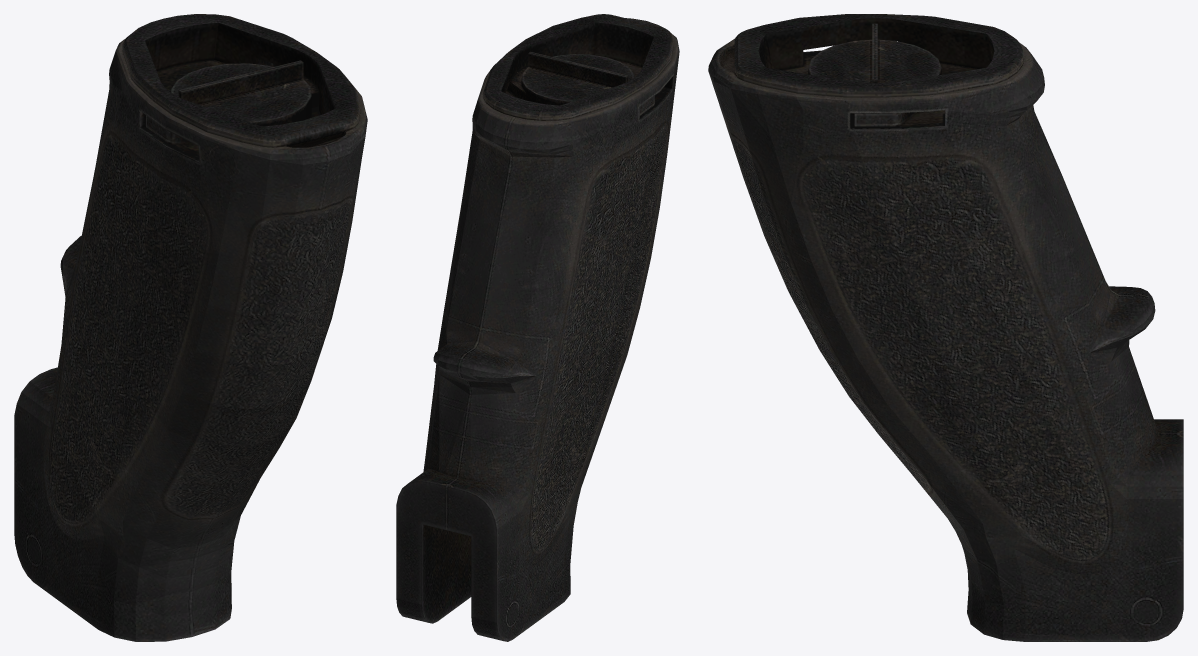
The picture shows the model from 3 angles, left to right: view 1: azimuth 30°, elevation 25°; view 2: azimuth 150°, elevation 25°; view 3: azimuth 270°, elevation 25°; orthographic projection. The views are drawn at different scales.
Visible parts, largest first — view 1: TW_5bb20e18d4351e00320205d5_PZ_Import; view 2: TW_5bb20e18d4351e00320205d5_PZ_Import; view 3: TW_5bb20e18d4351e00320205d5_PZ_Import.
Boxes of the visible parts, x1,y1,x2,y2 form: TW_5bb20e18d4351e00320205d5_PZ_Import: (14,14,367,641); TW_5bb20e18d4351e00320205d5_PZ_Import: (396,14,679,641); TW_5bb20e18d4351e00320205d5_PZ_Import: (708,14,1183,641).
Size of the model in its own units: 0.019 by 0.0466 by 0.0608.
Materials: 1 (1 with a texture image).
